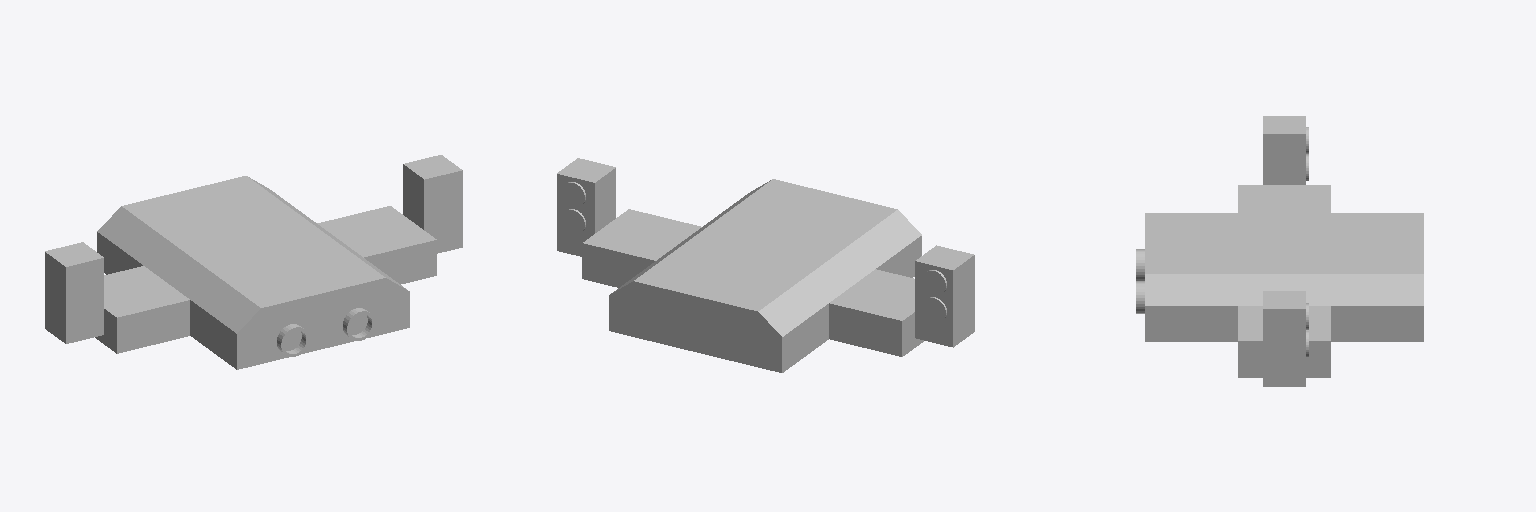
The model's file is ship.obj.
3 renders of one model, left to right at view 1: azimuth 30°, elevation 25°; view 2: azimuth 150°, elevation 25°; view 3: azimuth 270°, elevation 25°, orthographic.
Parts seen in each view (by area): view 1: Cube; view 2: Cube; view 3: Cube.
Part boxes in pixels (bbox=[...]): Cube: bbox=[45, 155, 462, 369]; Cube: bbox=[557, 158, 974, 372]; Cube: bbox=[1136, 116, 1423, 386].
Bounding box in the file's own units: 3.28 × 0.6868 × 2.07.